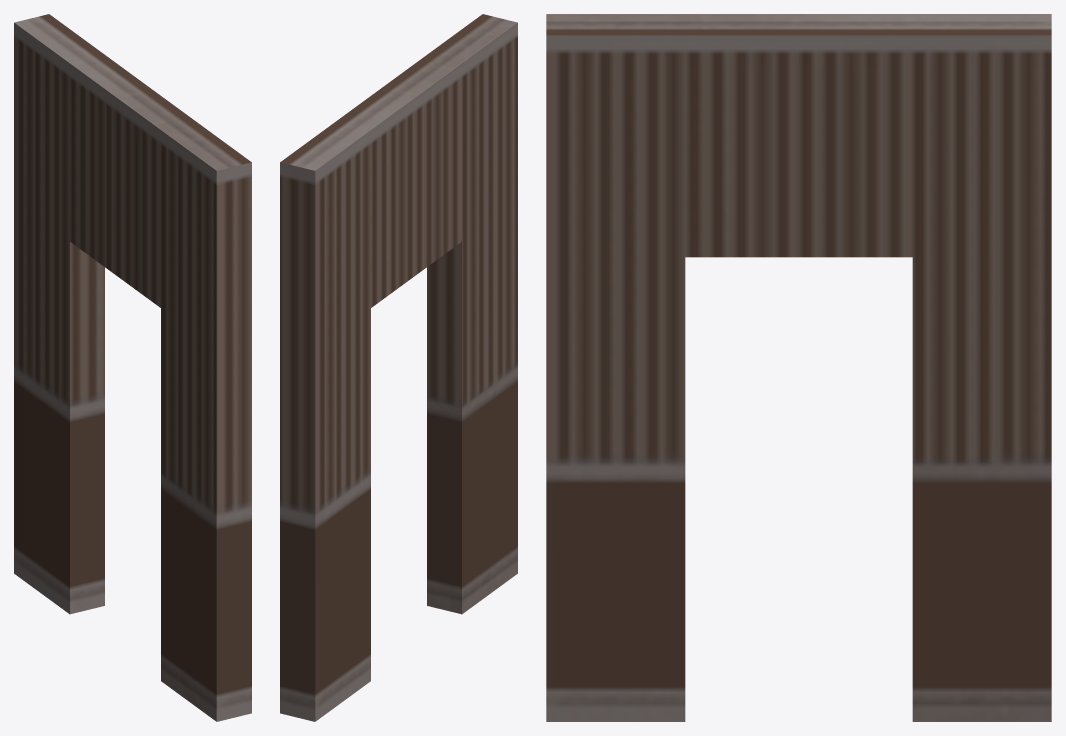
File: WallMedium_Door.fbx
3 renders of one model, left to right at view 1: azimuth 30°, elevation 25°; view 2: azimuth 150°, elevation 25°; view 3: azimuth 270°, elevation 25°, orthographic. The views are drawn at different scales.
Parts seen in each view (by area): view 1: WallMedium_Door; view 2: WallMedium_Door; view 3: WallMedium_Door.
Part boxes in pixels (x1,y1,x2,y2): WallMedium_Door: [14, 14, 251, 721]; WallMedium_Door: [280, 14, 517, 721]; WallMedium_Door: [546, 14, 1051, 721].
Bounding box in the file's own units: 200 × 20 × 300.
